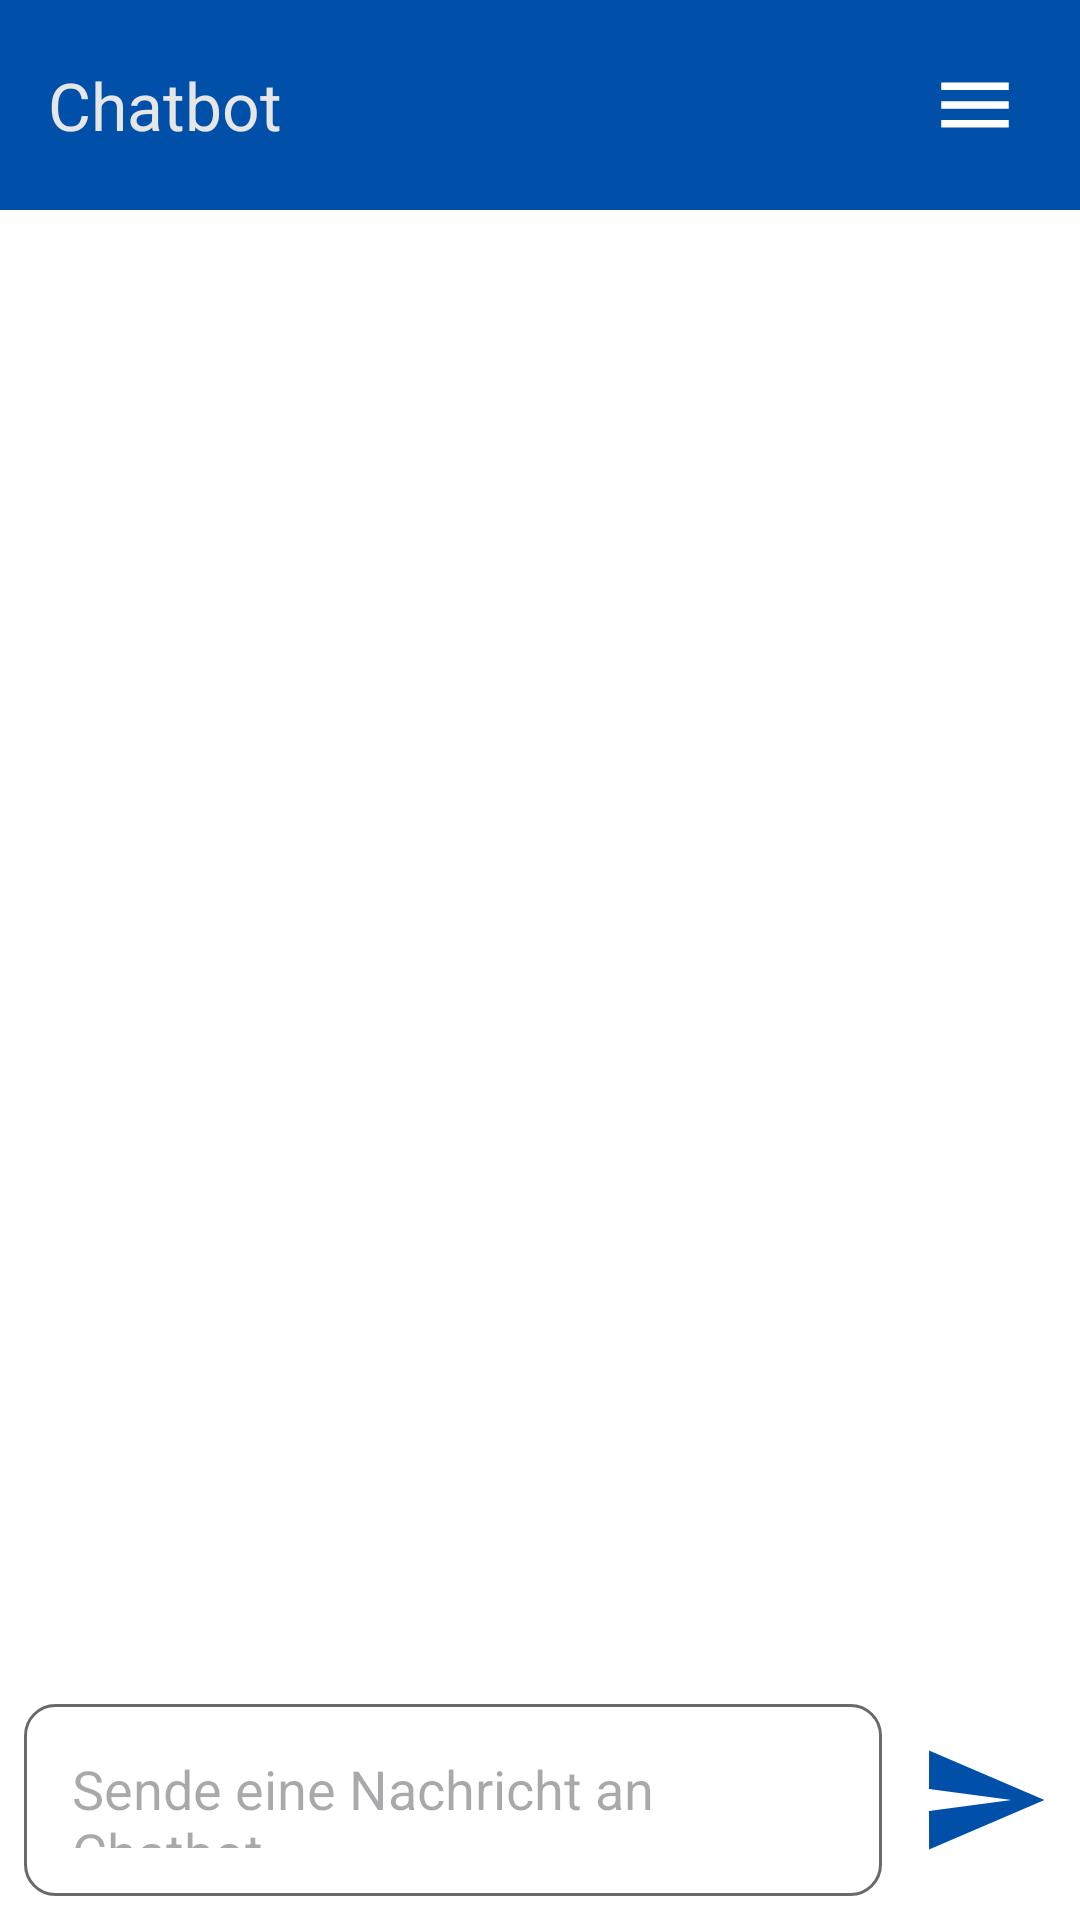

Where to tap for icons on this 1080w x 1920h app screen, as (x,y):
menu: (975,105)
